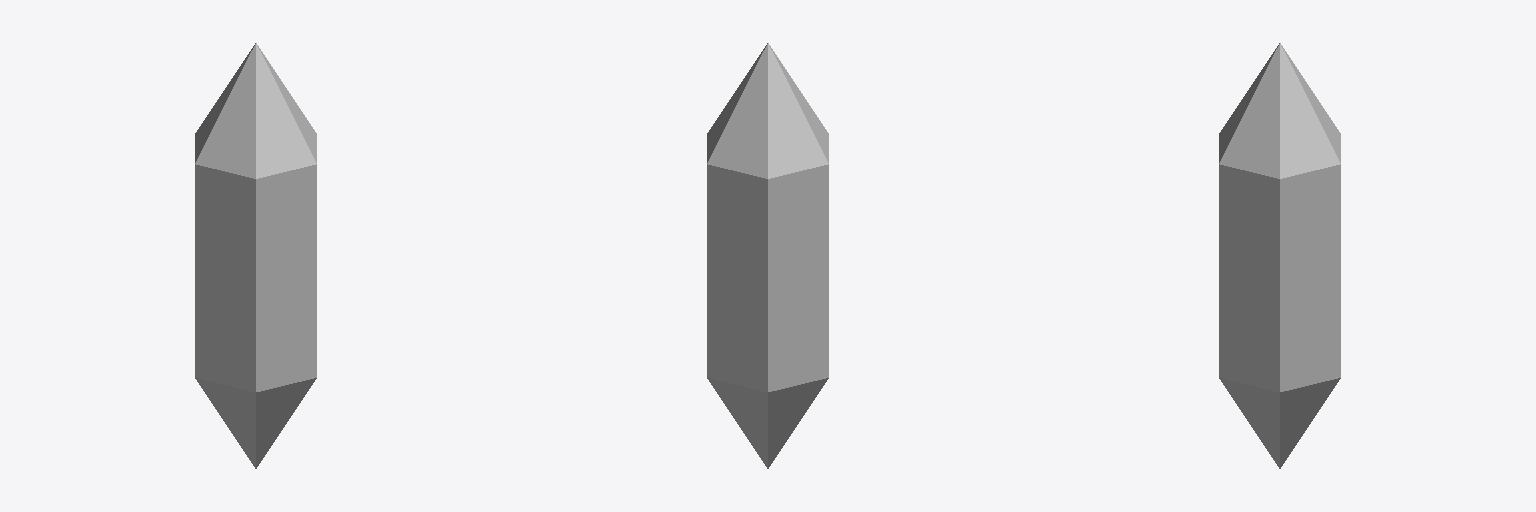
File: crystal.obj
The picture shows the model from 3 angles: view 1: azimuth 30°, elevation 25°; view 2: azimuth 150°, elevation 25°; view 3: azimuth 270°, elevation 25°; orthographic projection.
Bounding box in the file's own units: 0.6 × 2 × 0.52.